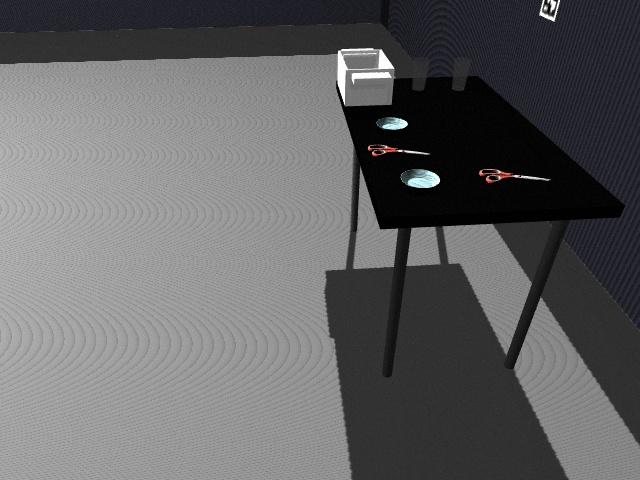cup: (451, 57, 472, 92), (410, 59, 427, 92)
plate: (400, 168, 442, 189), (376, 117, 409, 131)
scissors: (481, 168, 549, 184), (364, 143, 430, 159)
